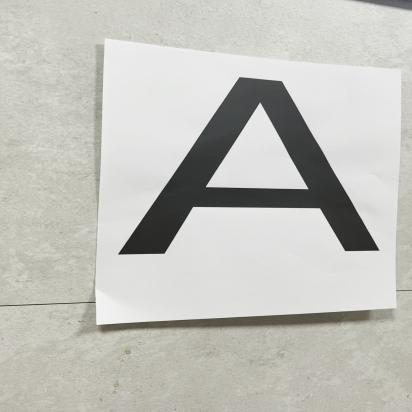seat: (118, 74, 412, 335)
